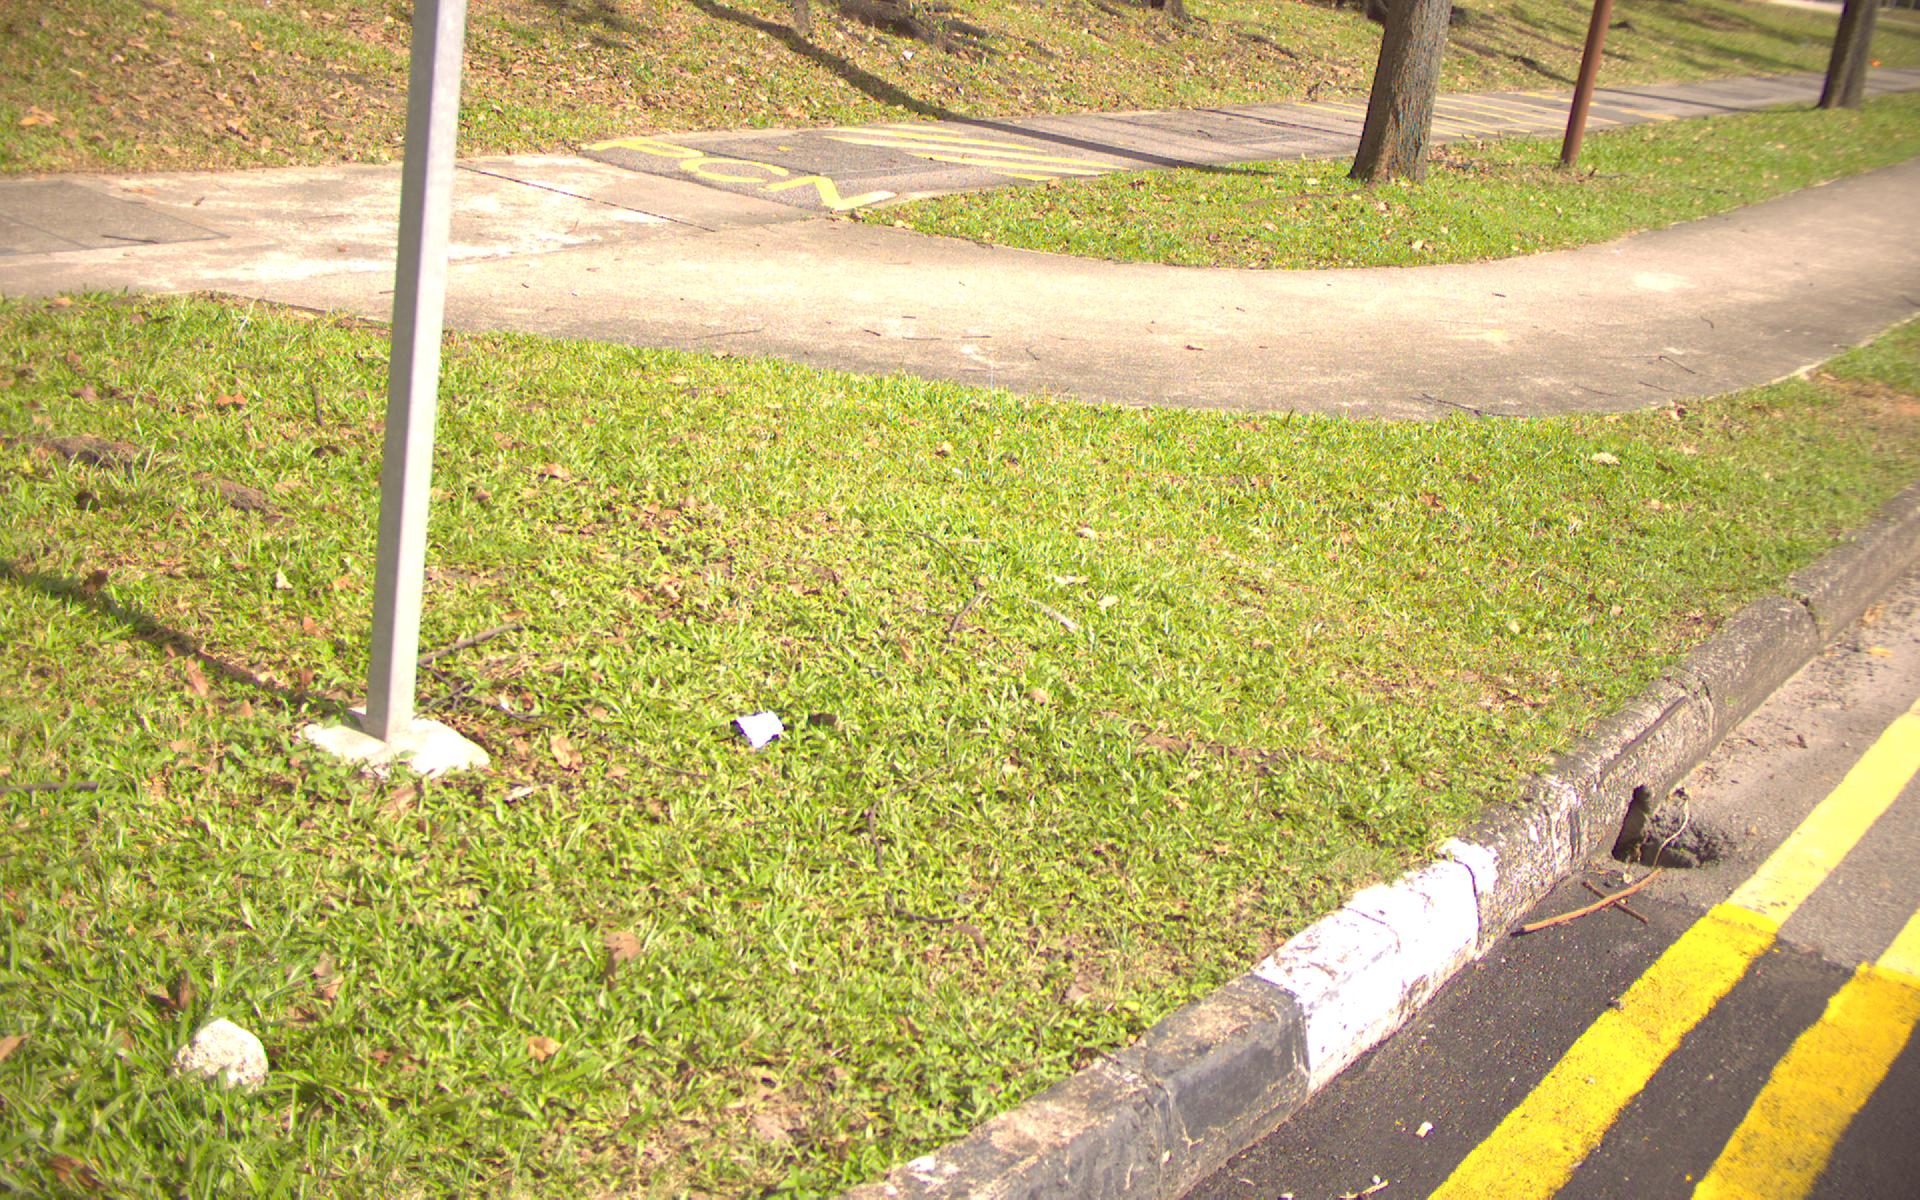pathway_low: (863, 265, 1782, 379), (323, 166, 845, 310)
road_curb_low: (1667, 671, 1845, 1200)
road_turf_low: (43, 418, 1102, 1029)
